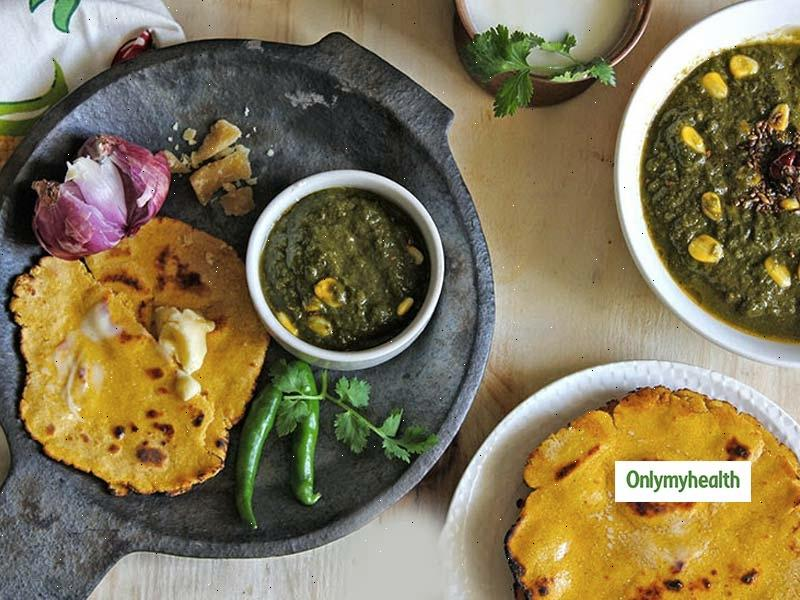saag: (658, 54, 800, 334), (262, 191, 436, 348)
